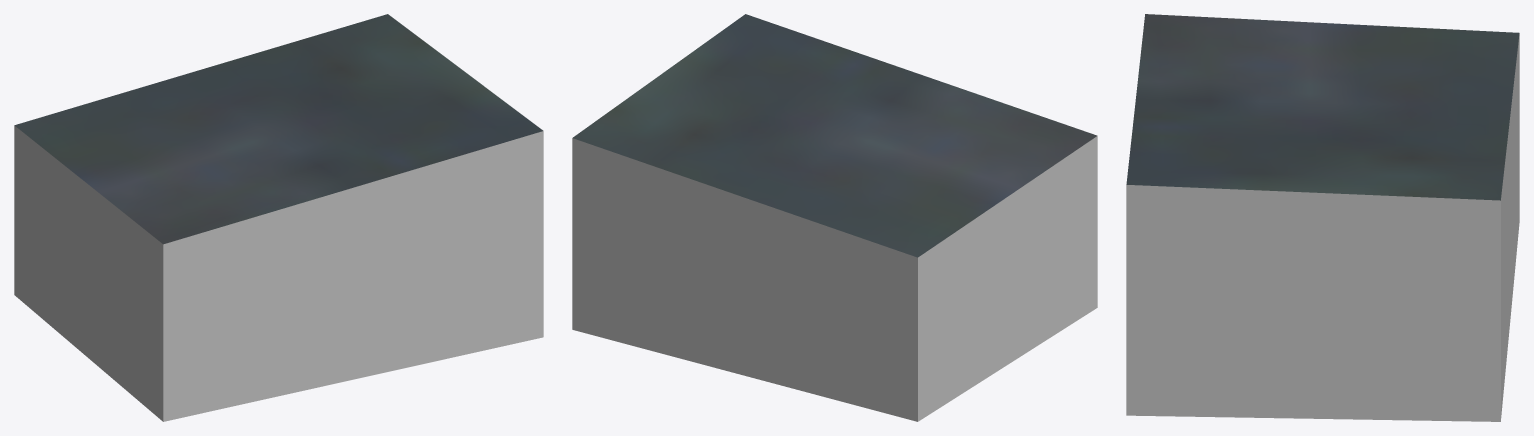
File: DEBW_0010007Txbz.gltf
3 views of the same model, side by side, from view 1: azimuth 30°, elevation 25°; view 2: azimuth 150°, elevation 25°; view 3: azimuth 270°, elevation 25° (orthographic). The views are drawn at different scales.
Parts seen in each view (by area): view 1: Z_UP; view 2: Z_UP; view 3: Z_UP.
Boxes of the visible parts, box(x1,y1,x2,y2) form: Z_UP: box(14, 14, 543, 421); Z_UP: box(572, 14, 1097, 421); Z_UP: box(1126, 14, 1519, 421).
Size of the model in its own units: 3.97 by 2.04 by 3.15.
2 materials, 1 textured.
